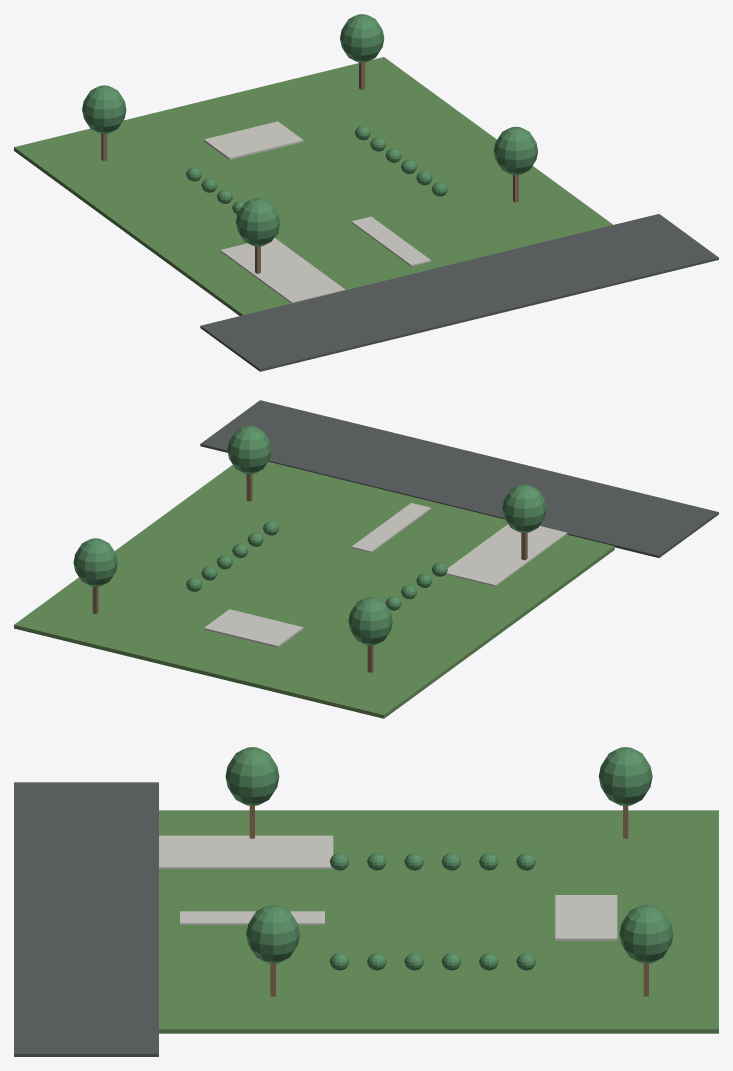
The model's file is site.glb.
3 views of the same model, one above another, from view 1: azimuth 30°, elevation 25°; view 2: azimuth 150°, elevation 25°; view 3: azimuth 270°, elevation 25° (orthographic). The views are drawn at different scales.
Visible parts, largest first — view 1: SITE_Grass_Lot, SITE_Street, SITE_Driveway, SITE_Patio, SITE_Tree_Canopy_3, SITE_Tree_Canopy_2, SITE_Tree_Canopy_0, SITE_Tree_Canopy_1, SITE_Walkway; view 2: SITE_Grass_Lot, SITE_Street, SITE_Driveway, SITE_Patio, SITE_Tree_Canopy_0, SITE_Tree_Canopy_1, SITE_Tree_Canopy_3, SITE_Tree_Canopy_2, SITE_Walkway; view 3: SITE_Grass_Lot, SITE_Street, SITE_Driveway, SITE_Patio, SITE_Tree_Canopy_0, SITE_Tree_Canopy_1, SITE_Tree_Canopy_3, SITE_Tree_Canopy_2, SITE_Walkway.
Boxes of the visible parts, box(x1,y1,x2,y2) form: SITE_Grass_Lot: box(14, 57, 612, 315); SITE_Street: box(200, 214, 718, 371); SITE_Driveway: box(220, 237, 345, 303); SITE_Patio: box(204, 121, 303, 159); SITE_Tree_Canopy_3: box(340, 14, 384, 62); SITE_Tree_Canopy_2: box(82, 85, 126, 133); SITE_Tree_Canopy_0: box(236, 198, 280, 246); SITE_Tree_Canopy_1: box(494, 126, 537, 175); SITE_Walkway: box(351, 216, 431, 266); SITE_Grass_Lot: box(14, 461, 614, 718); SITE_Street: box(200, 400, 718, 557); SITE_Driveway: box(446, 524, 567, 586); SITE_Patio: box(204, 609, 303, 647); SITE_Tree_Canopy_0: box(502, 484, 546, 532); SITE_Tree_Canopy_1: box(227, 425, 271, 474); SITE_Tree_Canopy_3: box(73, 538, 117, 586); SITE_Tree_Canopy_2: box(348, 597, 392, 645); SITE_Walkway: box(351, 503, 431, 552); SITE_Grass_Lot: box(159, 810, 718, 1033); SITE_Street: box(14, 782, 158, 1056); SITE_Driveway: box(159, 835, 333, 868); SITE_Patio: box(555, 895, 617, 940); SITE_Tree_Canopy_0: box(225, 747, 279, 805); SITE_Tree_Canopy_1: box(246, 904, 299, 963); SITE_Tree_Canopy_3: box(619, 904, 673, 963); SITE_Tree_Canopy_2: box(598, 747, 652, 805); SITE_Walkway: box(180, 911, 324, 924).
Size of the model in its own units: 31 by 5.11 by 34.
